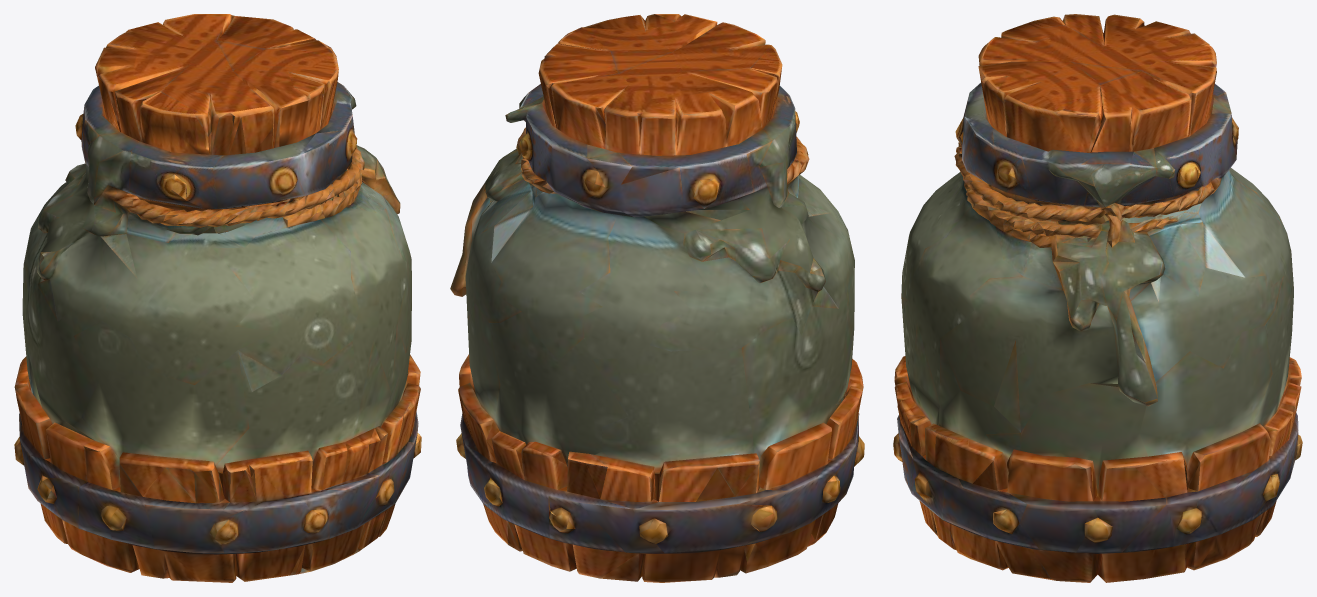
The model's file is jar-common.glb.
The picture shows the model from 3 angles, left to right: view 1: azimuth 30°, elevation 25°; view 2: azimuth 150°, elevation 25°; view 3: azimuth 270°, elevation 25°; orthographic projection.
Size of the model in its own units: 1.68 by 2 by 1.65.
1 material, 1 textured.
